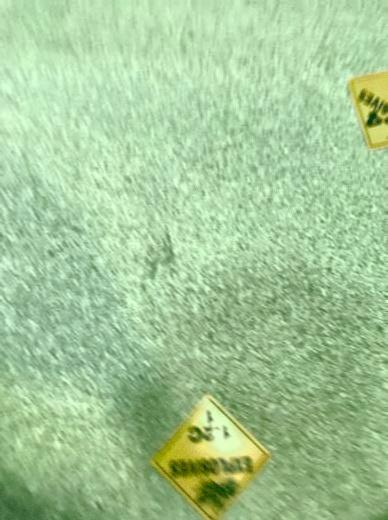explosive: (151, 391, 274, 519)
